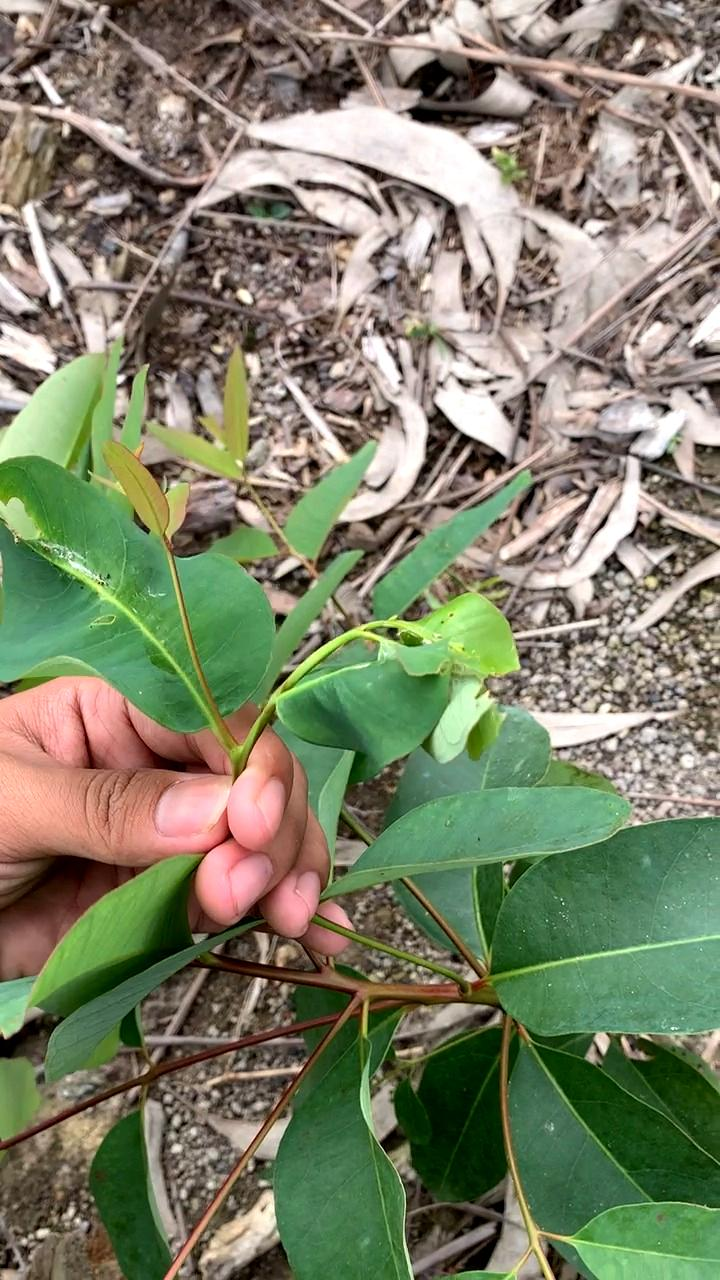Leaf Roller - Leaf: (358, 610, 521, 757)
